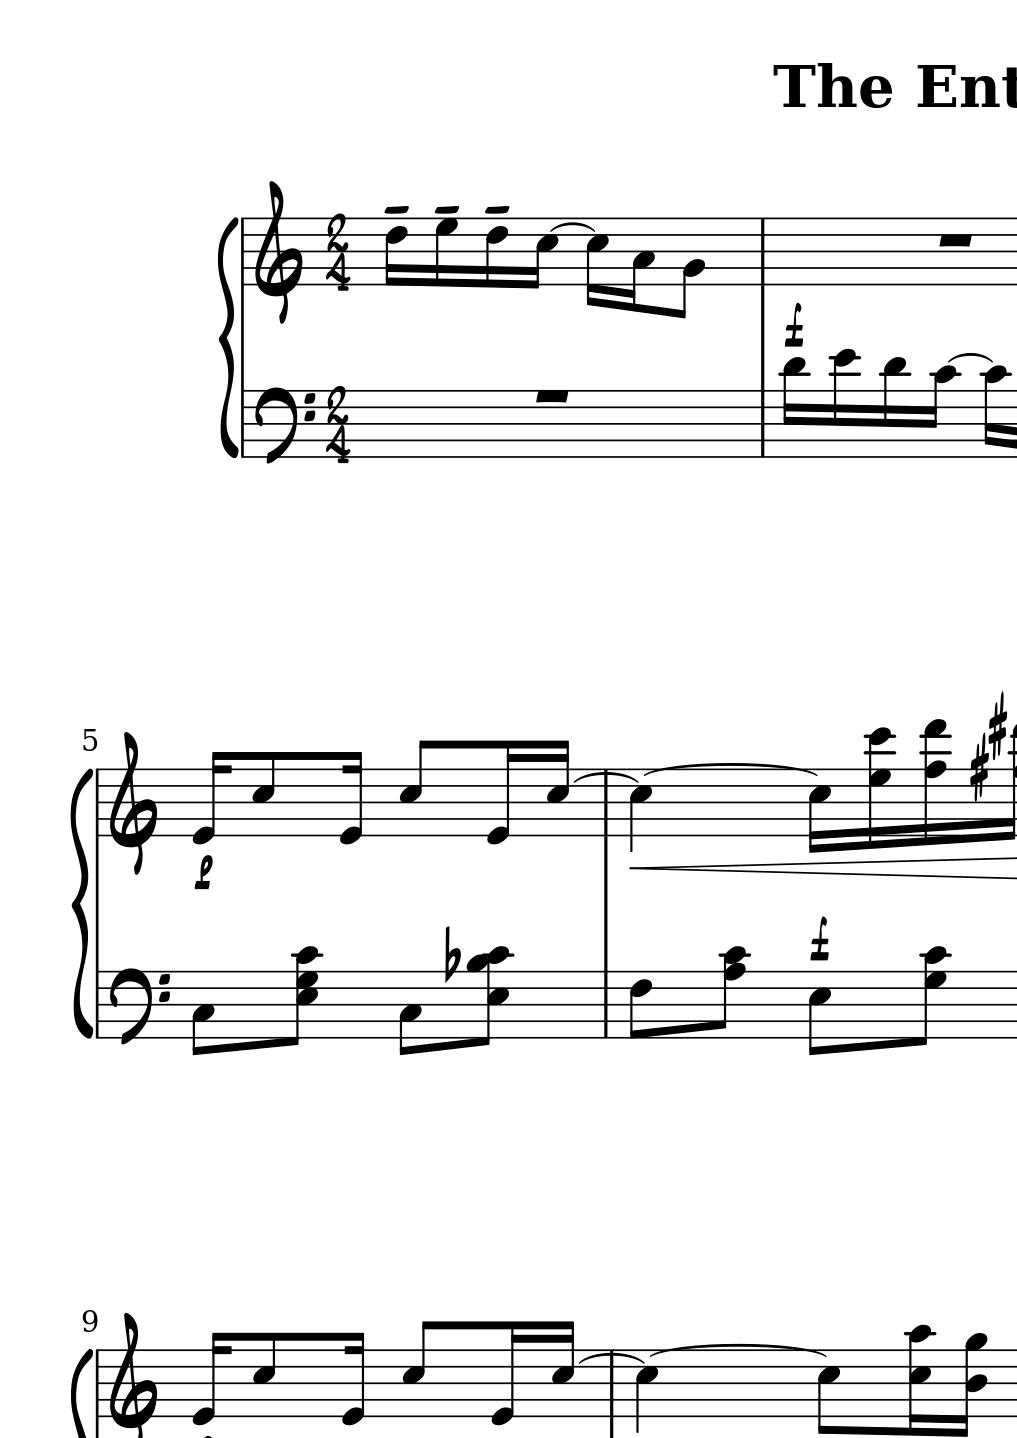16_0: (189, 749, 230, 846), (488, 1320, 523, 1428), (189, 1330, 229, 1426), (484, 740, 518, 847), (337, 747, 364, 847), (339, 1329, 367, 1427)
16_10: (925, 365, 960, 460), (980, 364, 1008, 459)
16_11: (779, 355, 806, 460), (881, 354, 906, 461)
16_12: (828, 347, 859, 460)
16_3: (623, 216, 655, 312)
16_4_9: (956, 1331, 989, 1438)
16_5: (545, 738, 571, 838), (525, 217, 559, 290), (550, 1318, 575, 1419), (583, 216, 609, 308), (805, 767, 831, 855)
16_5_10: (904, 1324, 934, 1436)
16_6: (483, 216, 508, 290), (383, 216, 408, 288)
16_7: (431, 215, 458, 289)
16_7_12: (863, 727, 897, 850)
16_8_13: (920, 720, 953, 847)
2: (322, 384, 352, 425), (324, 211, 351, 253)
4: (322, 425, 353, 464), (324, 252, 353, 290)
4_5: (633, 1348, 659, 1435), (627, 766, 653, 855)
5: (81, 726, 99, 754)
8_2: (675, 216, 704, 321)
8_3: (396, 969, 422, 1058), (190, 969, 215, 1057)
8_5: (400, 1318, 434, 1419), (397, 738, 431, 838), (806, 968, 832, 1057), (250, 749, 276, 837), (251, 1330, 277, 1418), (814, 1348, 840, 1436)
8_6: (628, 969, 653, 1041)
8_7_10: (912, 945, 952, 1047)
8_8_10: (717, 945, 752, 1041)
8_th: (461, 943, 514, 1050), (278, 943, 322, 1049), (645, 1342, 829, 1355), (579, 1353, 646, 1364)
9: (81, 1307, 98, 1333)
Brace: (90, 1349, 106, 1424)
Fclef: (252, 384, 316, 466), (108, 966, 169, 1049)
Flat: (442, 923, 461, 984)
Gclef: (107, 729, 160, 877), (252, 178, 303, 325), (107, 1311, 158, 1438)
Rests1: (531, 386, 572, 407), (934, 229, 976, 249)
Sharp: (967, 733, 988, 802), (988, 691, 1008, 760)
Single_barline: (598, 770, 617, 838), (603, 1350, 622, 1418), (597, 972, 615, 1038), (754, 389, 770, 458), (754, 218, 770, 285), (236, 218, 250, 287), (91, 972, 105, 1038), (237, 391, 250, 455), (92, 769, 105, 837)
Slur: (638, 762, 825, 777), (570, 772, 639, 784), (546, 221, 595, 235), (949, 352, 991, 363)
TimeSig: (322, 213, 353, 294), (324, 386, 351, 465)
f: (781, 301, 803, 349), (808, 916, 829, 961)
p: (192, 854, 215, 892)
